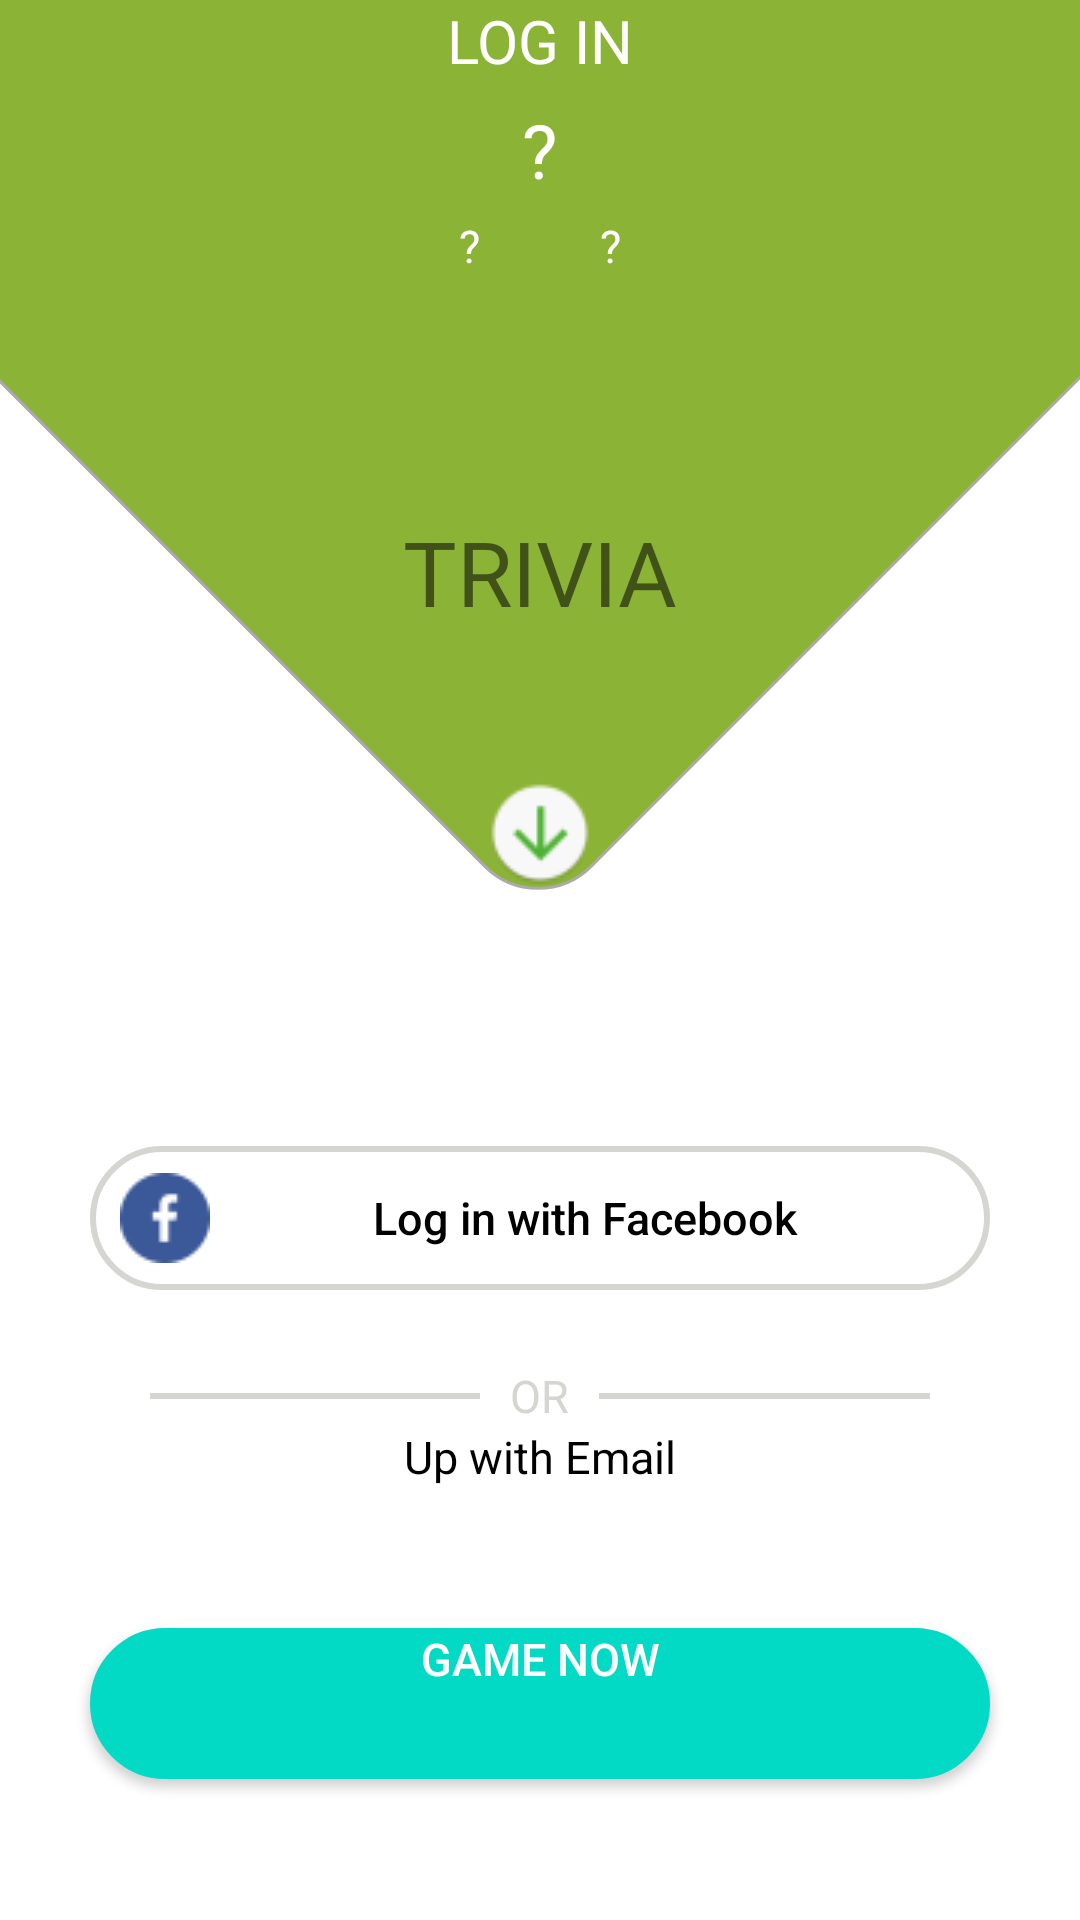

Where to tap for icons on this 1080 x 1920 app screen, as point (x, y):
down: point (540, 833)
